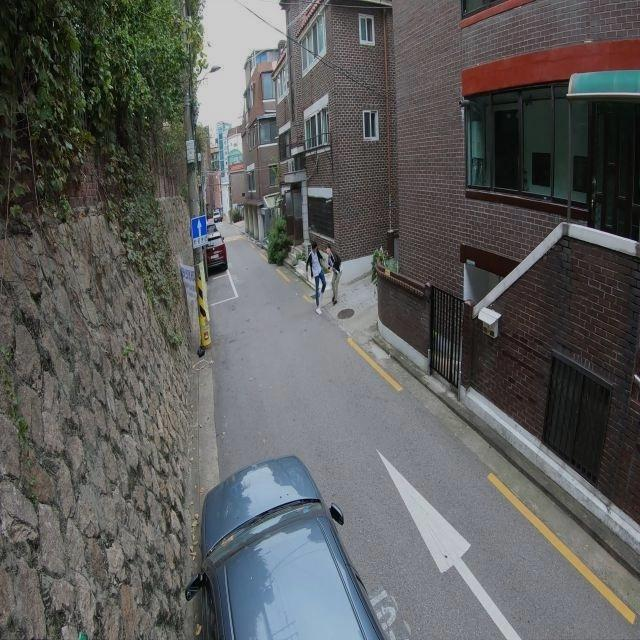fight: (306, 240, 342, 313)
